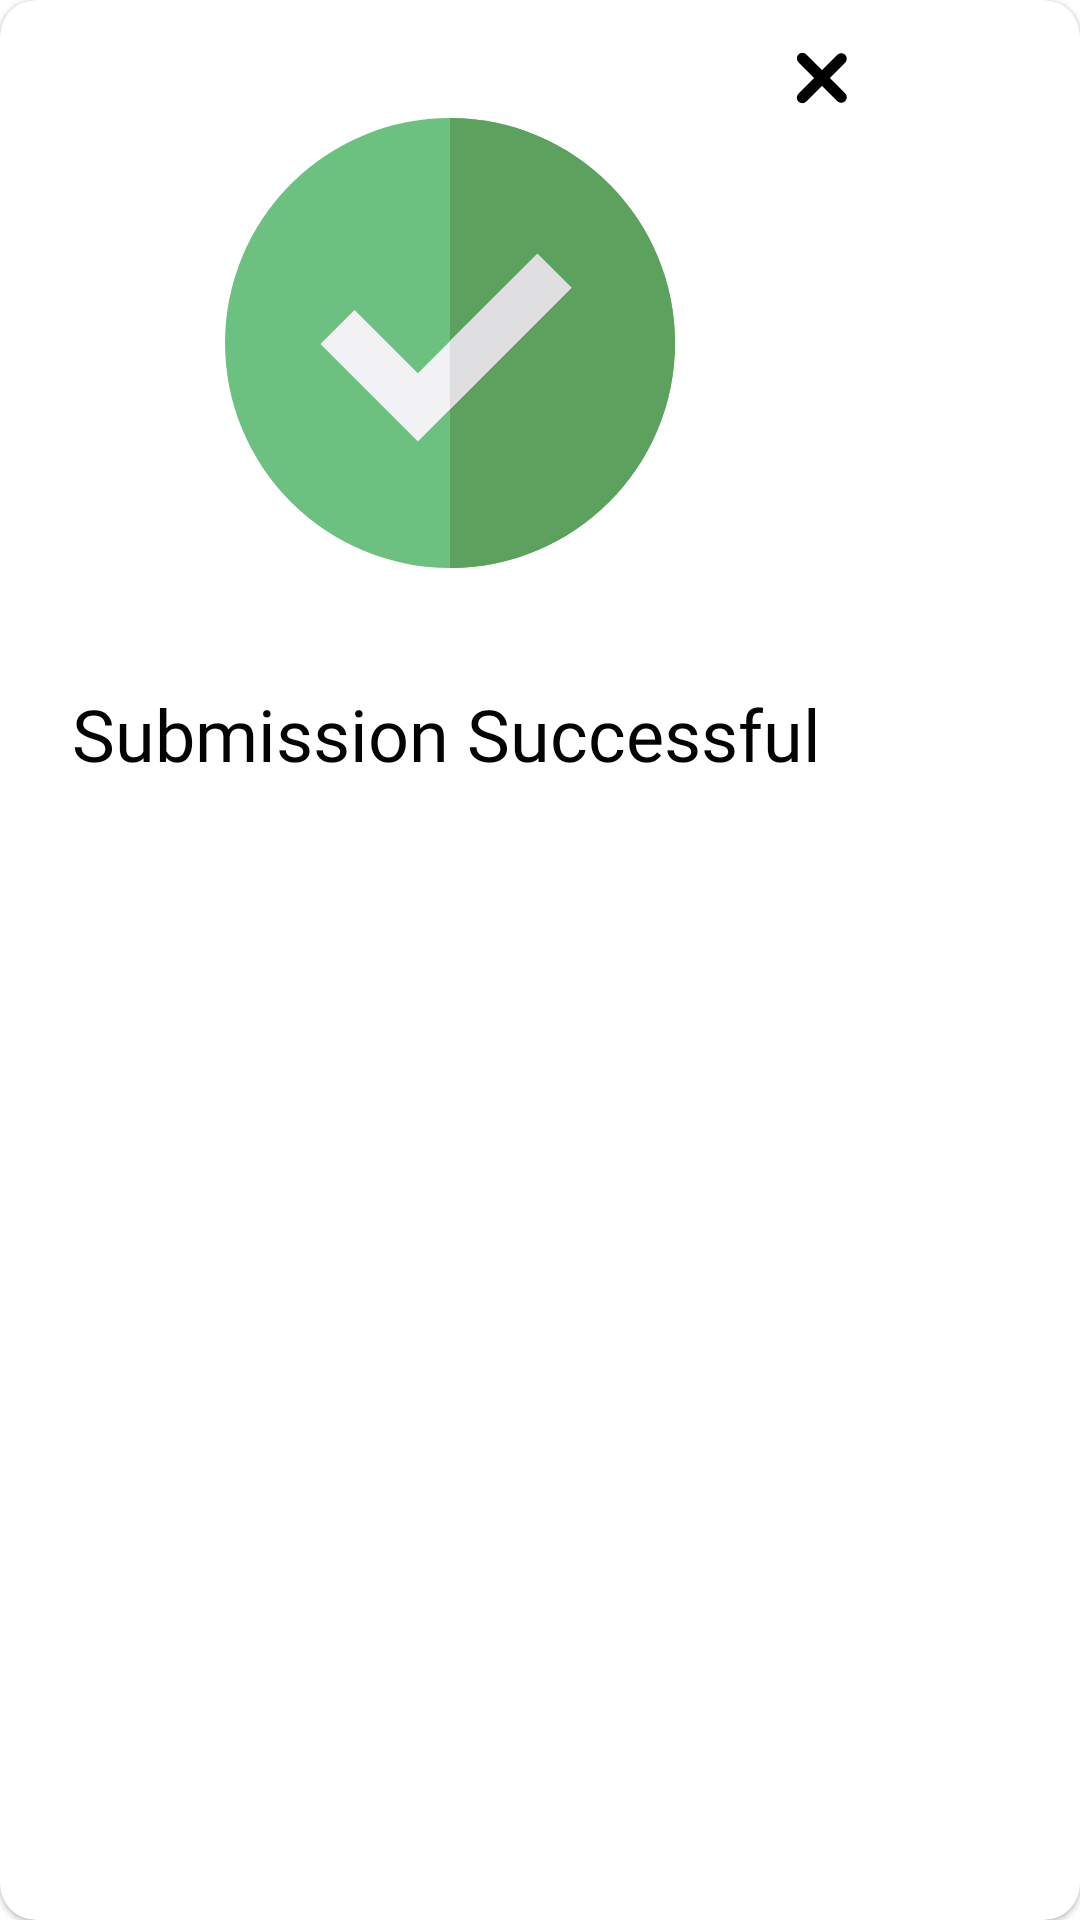

Icon click points for this 1080px x 1920px phone screenshot, format (x,y):
cancel: (821,78)
